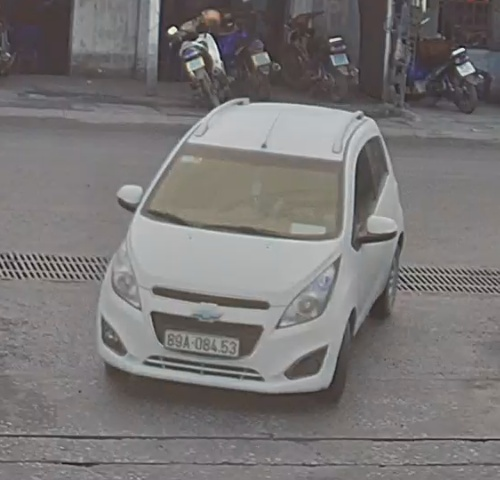vehicle plate: (161, 325, 248, 356)
